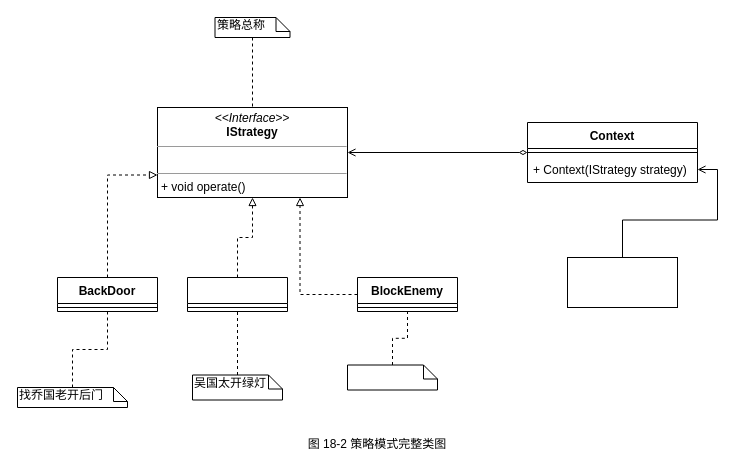
This 743x468 diagram has some shape labels left out. Each missing label, with the centre of its shape:
GivenGreenLight: the point at 237,294
ZhaoYun: the point at 622,282
孙夫人断后: the point at 392,377
